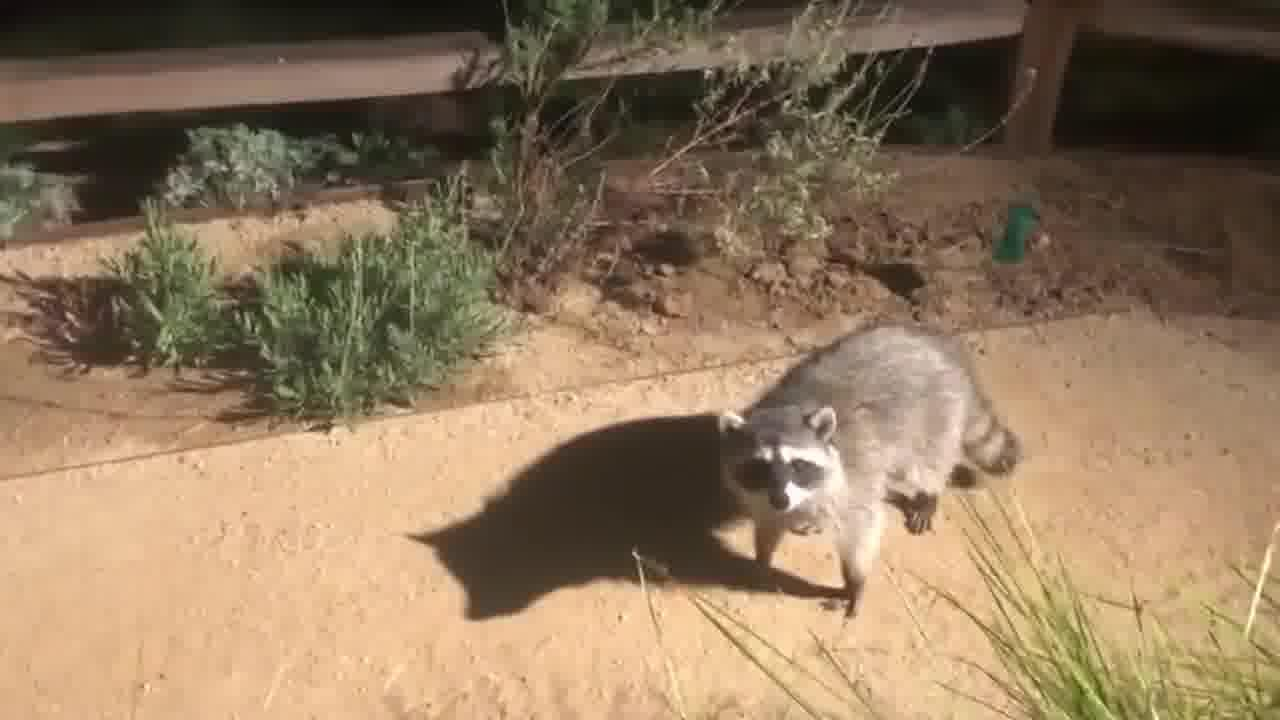raccoon: (705, 310, 1034, 628)
